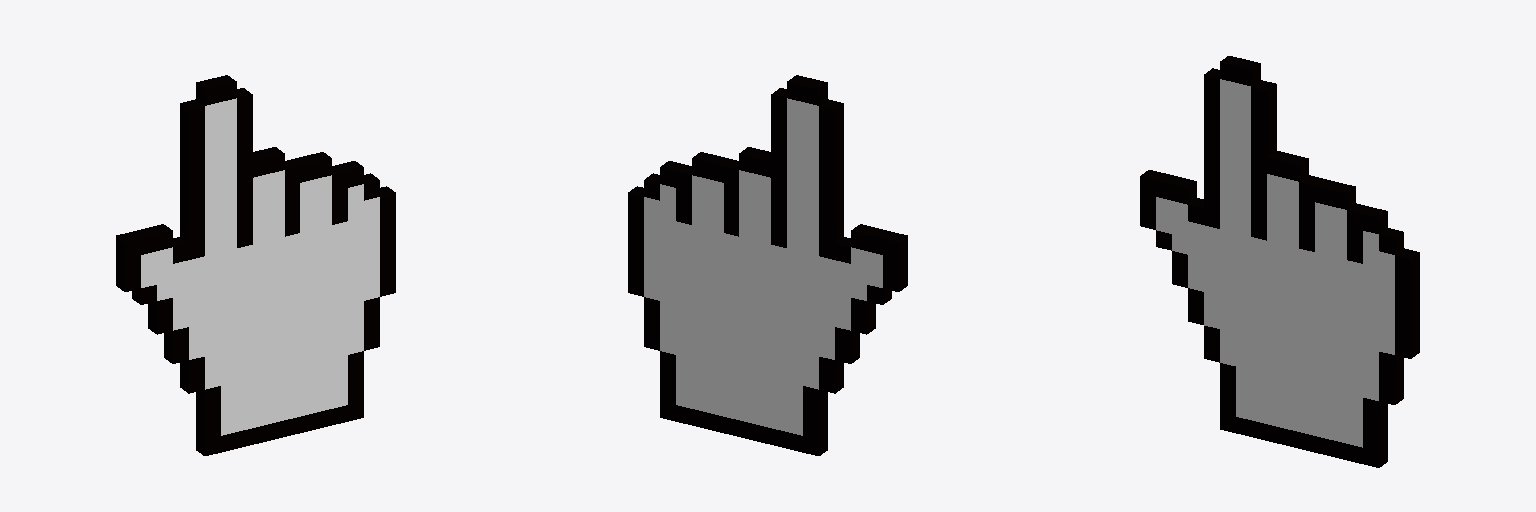
Rendered from mouse-hand.obj.
The picture shows the model from 3 angles: view 1: azimuth 30°, elevation 25°; view 2: azimuth 150°, elevation 25°; view 3: azimuth 330°, elevation 25°; orthographic projection.
Visible parts, largest first — view 1: Mesh1 Model; view 2: Mesh1 Model; view 3: Mesh1 Model.
Part boxes in pixels (left/top/right/bottom): Mesh1 Model: left=116, top=75, right=395, bottom=455; Mesh1 Model: left=628, top=75, right=907, bottom=455; Mesh1 Model: left=1140, top=56, right=1419, bottom=467.
Bounding box in the file's own units: 936 × 1211 × 55.06.